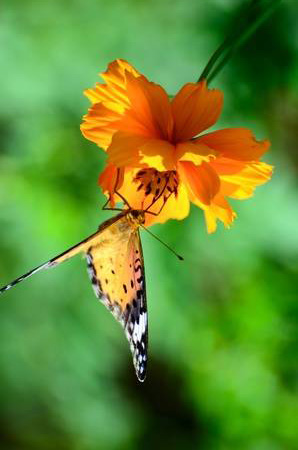Argyreus hyperbius: (2, 167, 188, 386)
butterfly: (1, 165, 186, 384)
